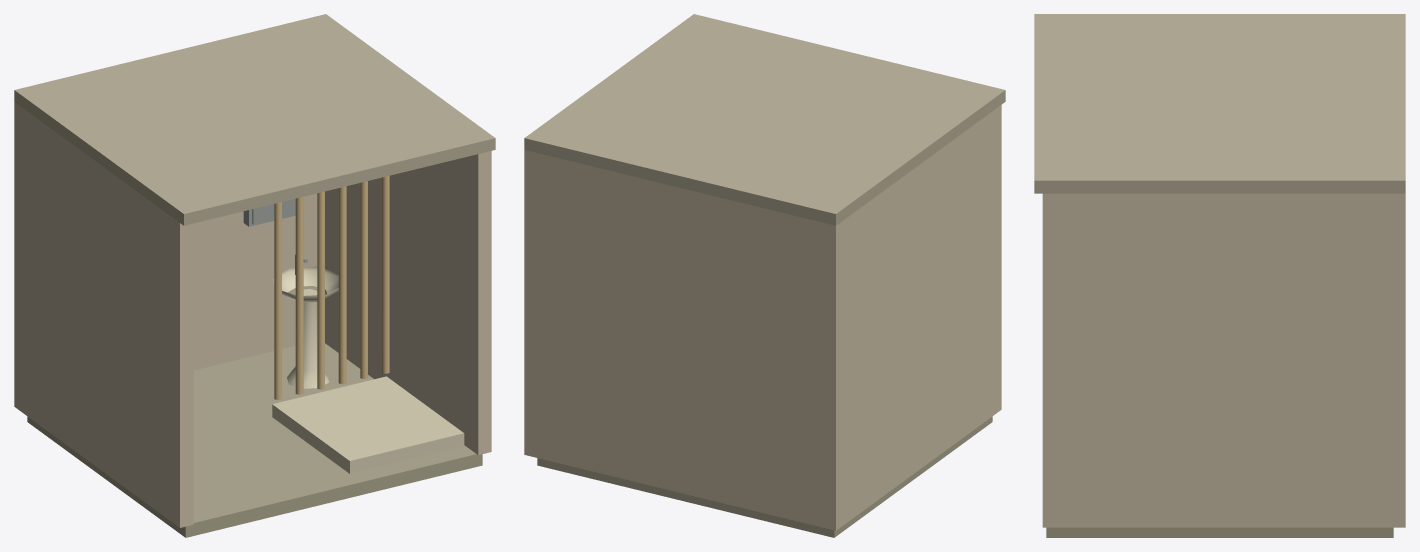
Rendered from SM_Town_Motel_Bathroom_LOD2.fbx.
3 renders of one model, left to right at view 1: azimuth 30°, elevation 25°; view 2: azimuth 150°, elevation 25°; view 3: azimuth 270°, elevation 25°, orthographic. The views are drawn at different scales.
Parts seen in each view (by area): view 1: SM_Town_Motel_Bathroom_LOD2; view 2: SM_Town_Motel_Bathroom_LOD2; view 3: SM_Town_Motel_Bathroom_LOD2.
Part boxes in pixels (<box>): SM_Town_Motel_Bathroom_LOD2: <box>14,14,495,537</box>; SM_Town_Motel_Bathroom_LOD2: <box>524,14,1005,537</box>; SM_Town_Motel_Bathroom_LOD2: <box>1034,14,1405,537</box>.
Bounding box in the file's own units: 2.78 × 2.62 × 2.81.
